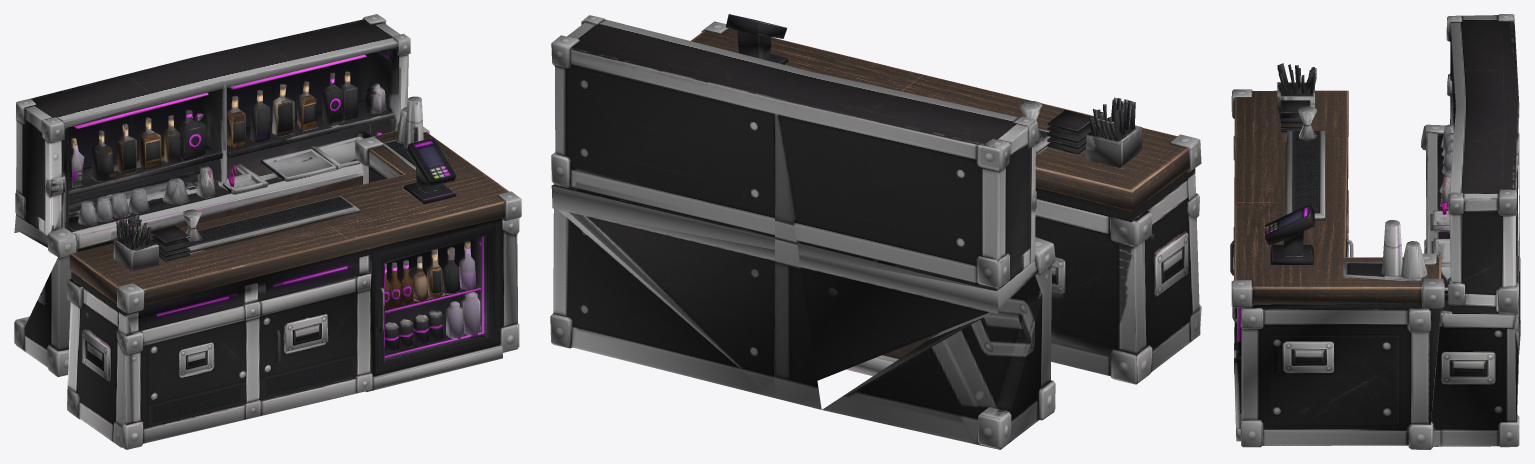
File: bar.glb
3 views of the same model, side by side, from view 1: azimuth 30°, elevation 25°; view 2: azimuth 150°, elevation 25°; view 3: azimuth 270°, elevation 25° (orthographic). The views are drawn at different scales.
Bounding box in the file's own units: 0.9512 × 0.5557 × 0.5771.
Materials: 1 (1 with a texture image).
